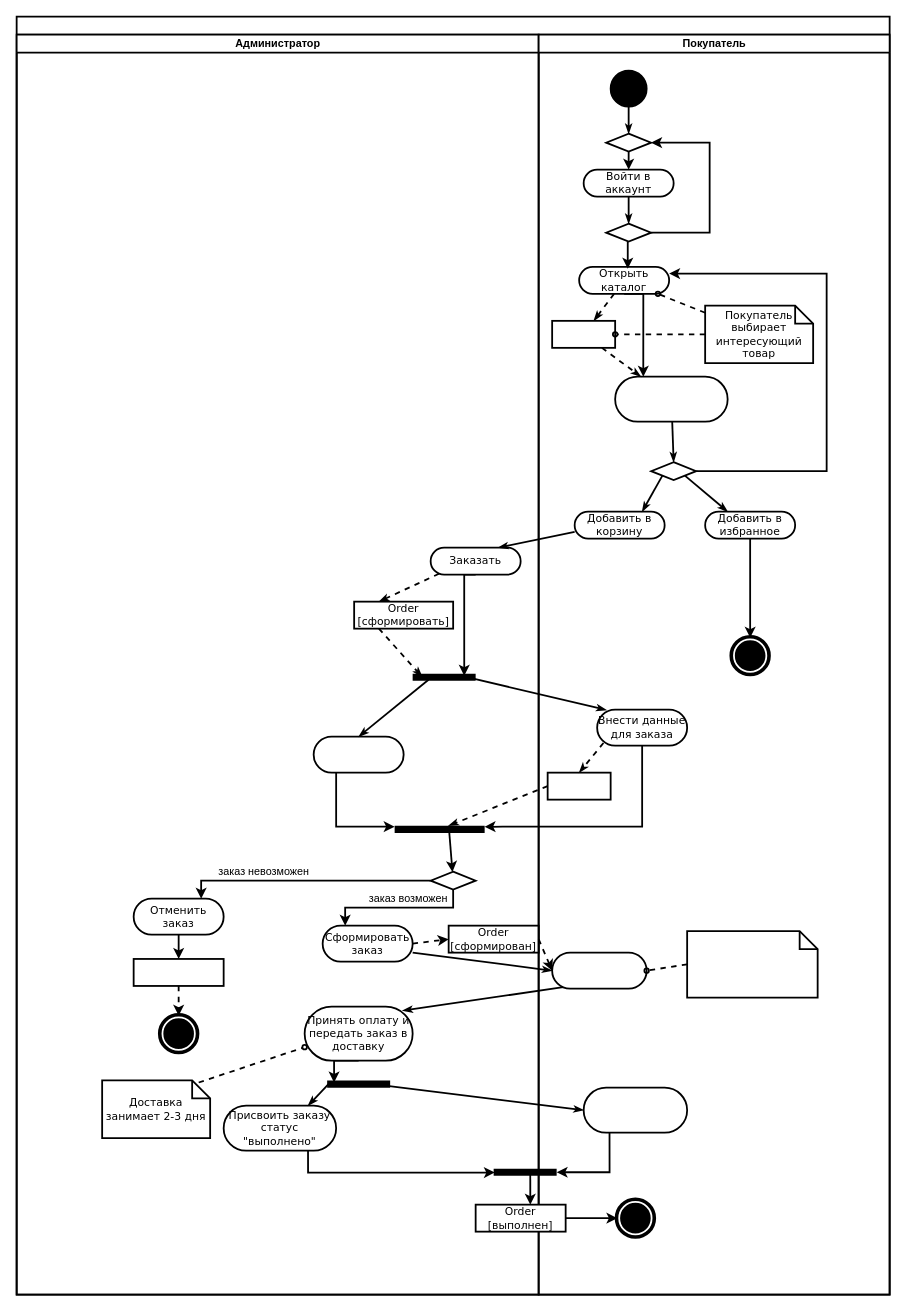
The diagram is 905 pixels wide and 1310 high, and some of its shapes have lost their labels. The shapes that lost their labels are listed below. From the top down, each one's centre as x and y in pixels, then its label:
At point 583,334: "Item".
At point 671,398: "Выбор дальнейшего действия".
At point 358,754: "Отправить запрос на склад".
At point 578,785: "ClientData".
At point 178,972: "Order [отменен]".
At point 599,970: "Оплатить заказ".
At point 752,964: "Оплата банковской картой, начисление бонусов за покупку".
At point 635,1109: "Принять заказ от курьера".
